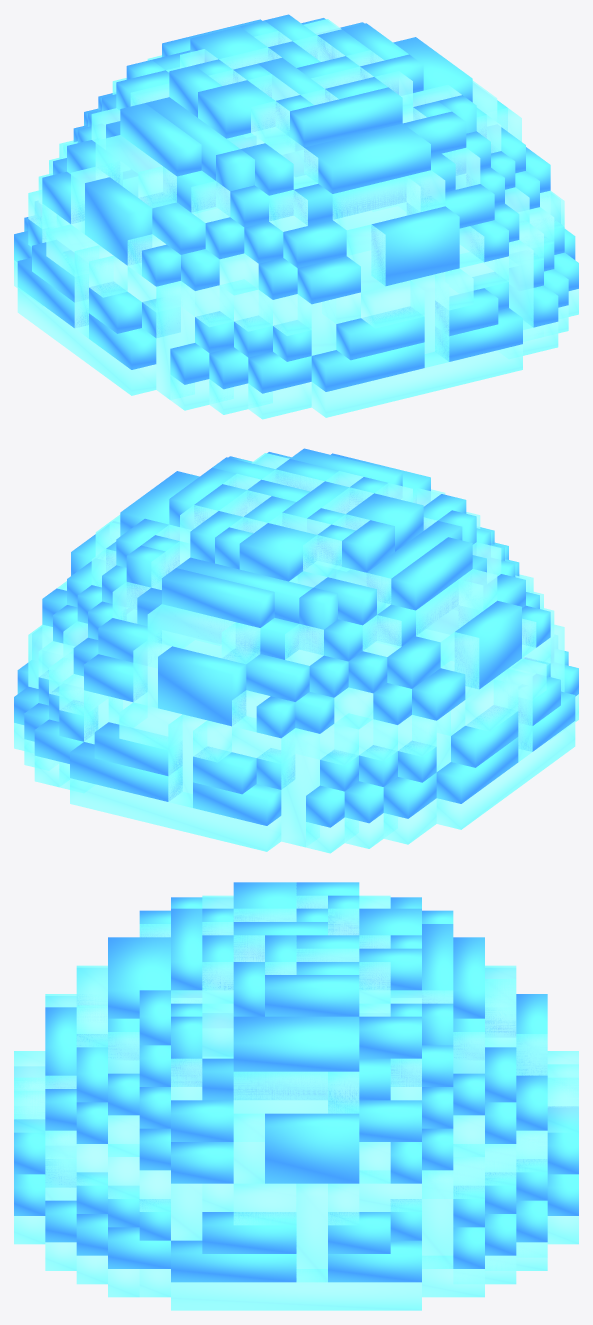
Rendered from shield-bubble.glb.
The picture shows the model from 3 angles, top to bottom: view 1: azimuth 30°, elevation 25°; view 2: azimuth 150°, elevation 25°; view 3: azimuth 270°, elevation 25°; orthographic projection. The views are drawn at different scales.
Parts seen in each view (by area): view 1: layer.hex, layer.edge; view 2: layer.hex, layer.edge; view 3: layer.hex, layer.edge.
Part boxes in pixels (box(x1,y1,x2,y2)): layer.hex: box(14, 14, 578, 393); layer.edge: box(14, 19, 578, 419); layer.hex: box(14, 448, 578, 827); layer.edge: box(14, 453, 578, 853); layer.hex: box(14, 882, 578, 1282); layer.edge: box(14, 895, 578, 1310).
Size of the model in its own units: 2.25 by 1.12 by 2.25.
